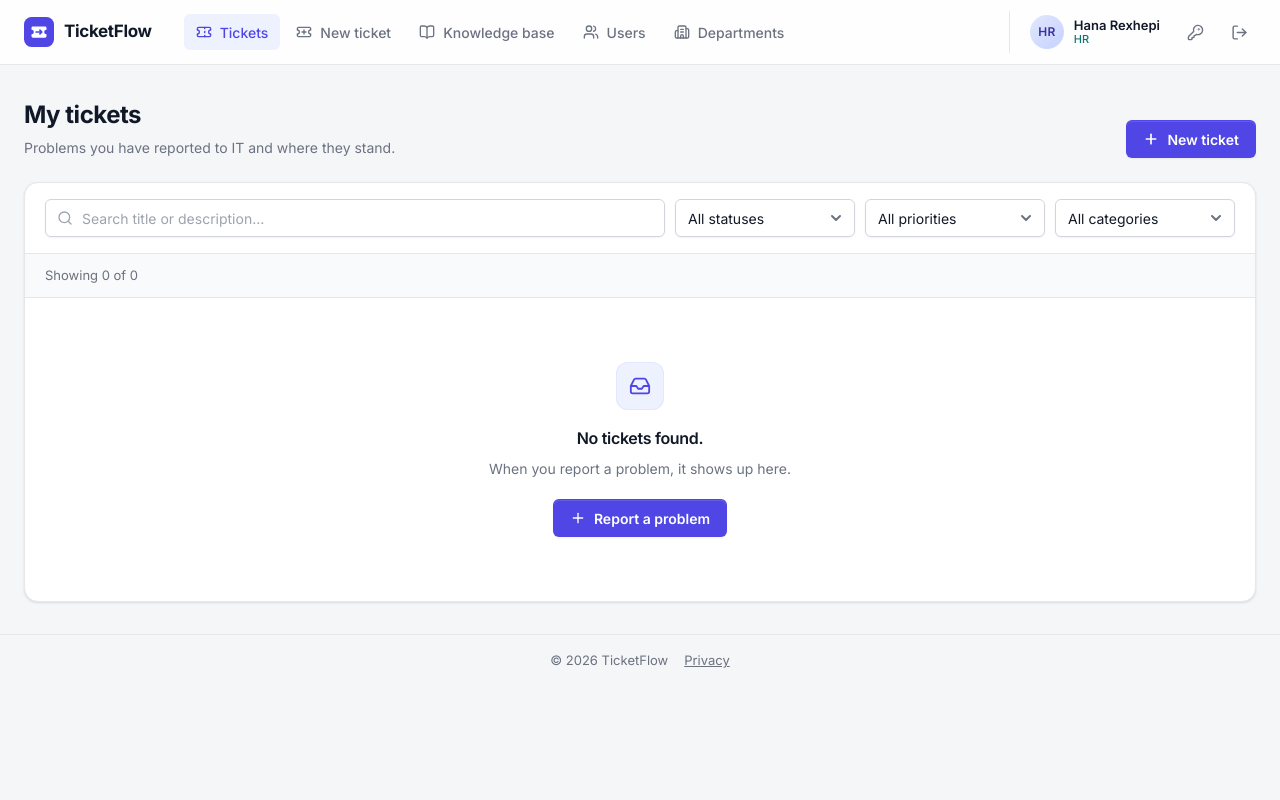
Departments page › access › HR can open it from the Departments link
Click the link "Departments". click: [729, 32]
box: top-left (674, 24), bottom-right (784, 40)
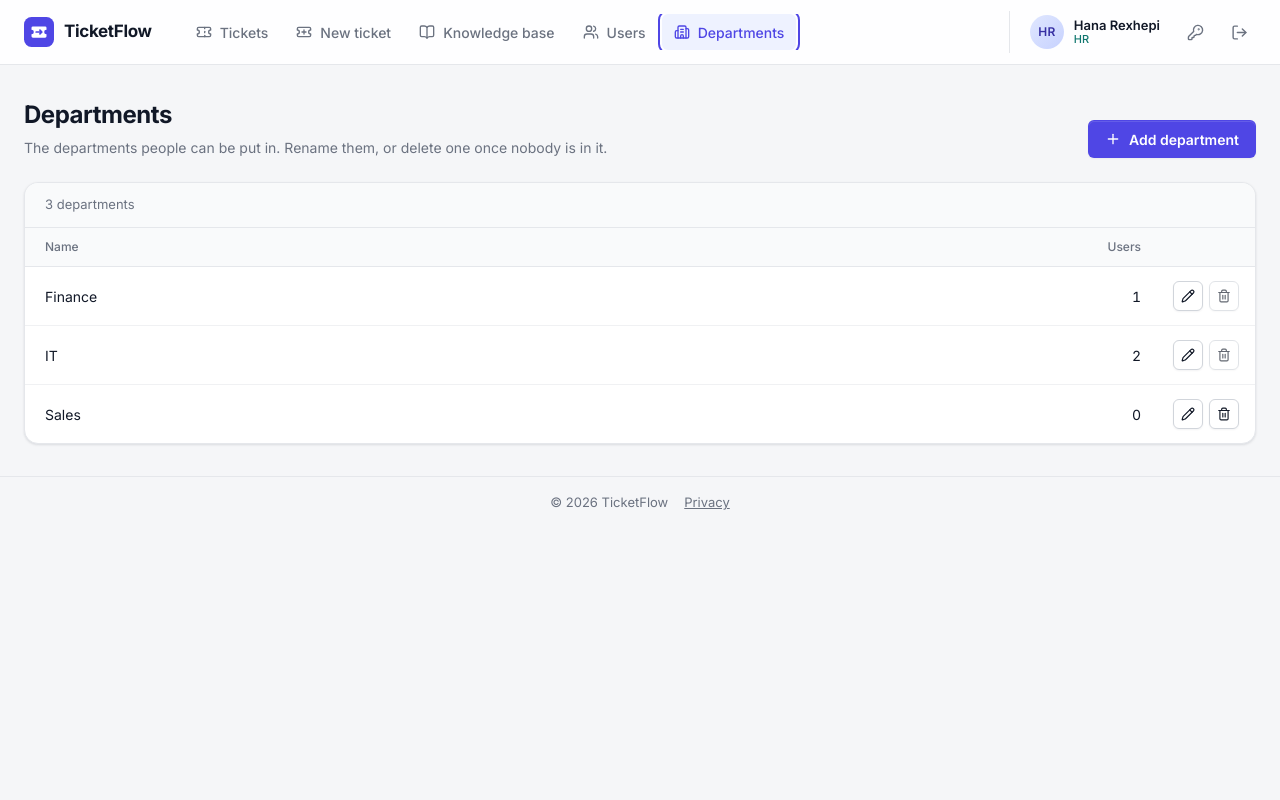
Expected: the heading "Departments" is shown, top-left (24, 100), bottom-right (172, 129)
